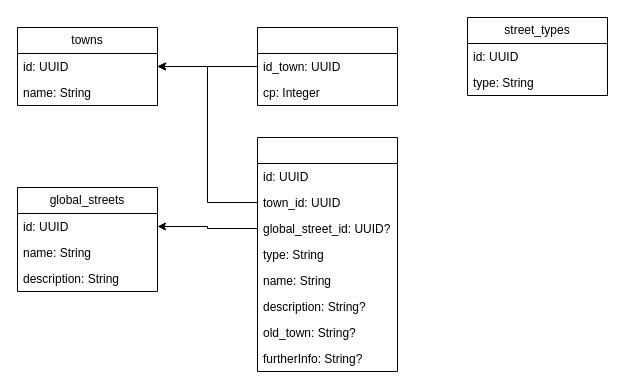
Some shapes in this 625 by 392 pixel diagram are drawn without their labels. The box of each missing label's shape, as (x1, y1, x2, y2) in pixels:
streets: (256, 136, 398, 372)
towns_cp: (256, 26, 398, 106)
